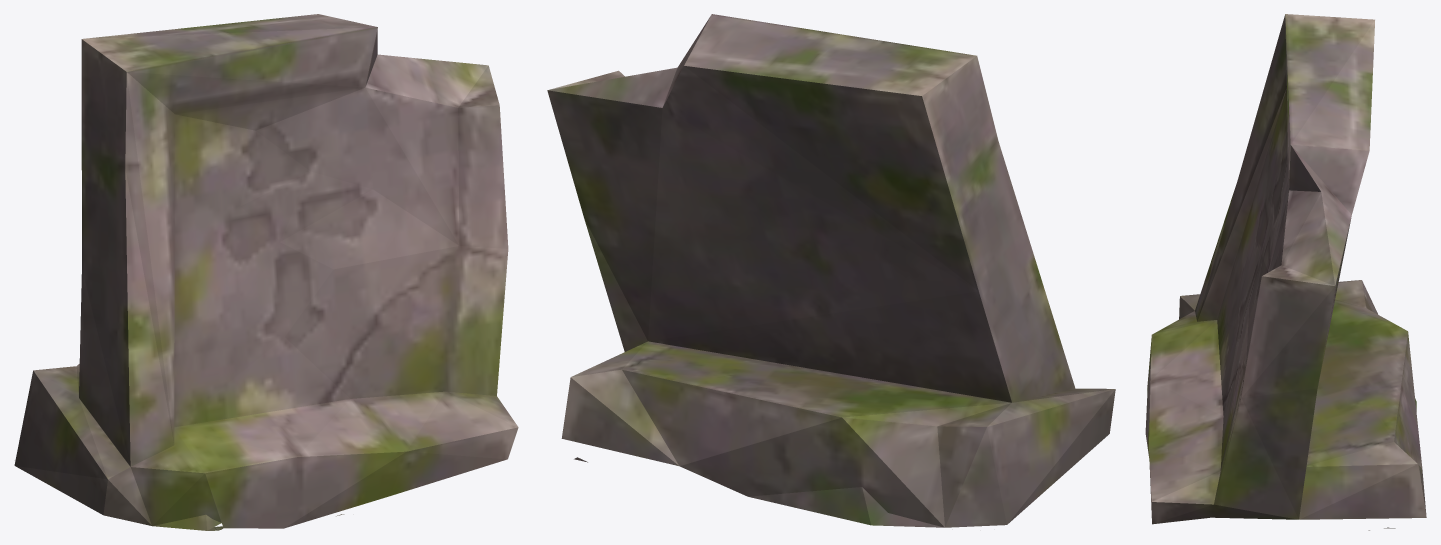
The model's file is gravestone-c.glb.
The picture shows the model from 3 angles, left to right: view 1: azimuth 30°, elevation 25°; view 2: azimuth 150°, elevation 25°; view 3: azimuth 270°, elevation 25°; orthographic projection. The views are drawn at different scales.
Parts seen in each view (by area): view 1: gravestone-c; view 2: gravestone-c; view 3: gravestone-c.
Part boxes in pixels (bbox=[...]): gravestone-c: bbox=[14, 14, 518, 530]; gravestone-c: bbox=[547, 14, 1115, 527]; gravestone-c: bbox=[1145, 14, 1426, 530].
Bounding box in the file's own units: 1.02 × 0.8869 × 0.5881.
1 material, 1 textured.
